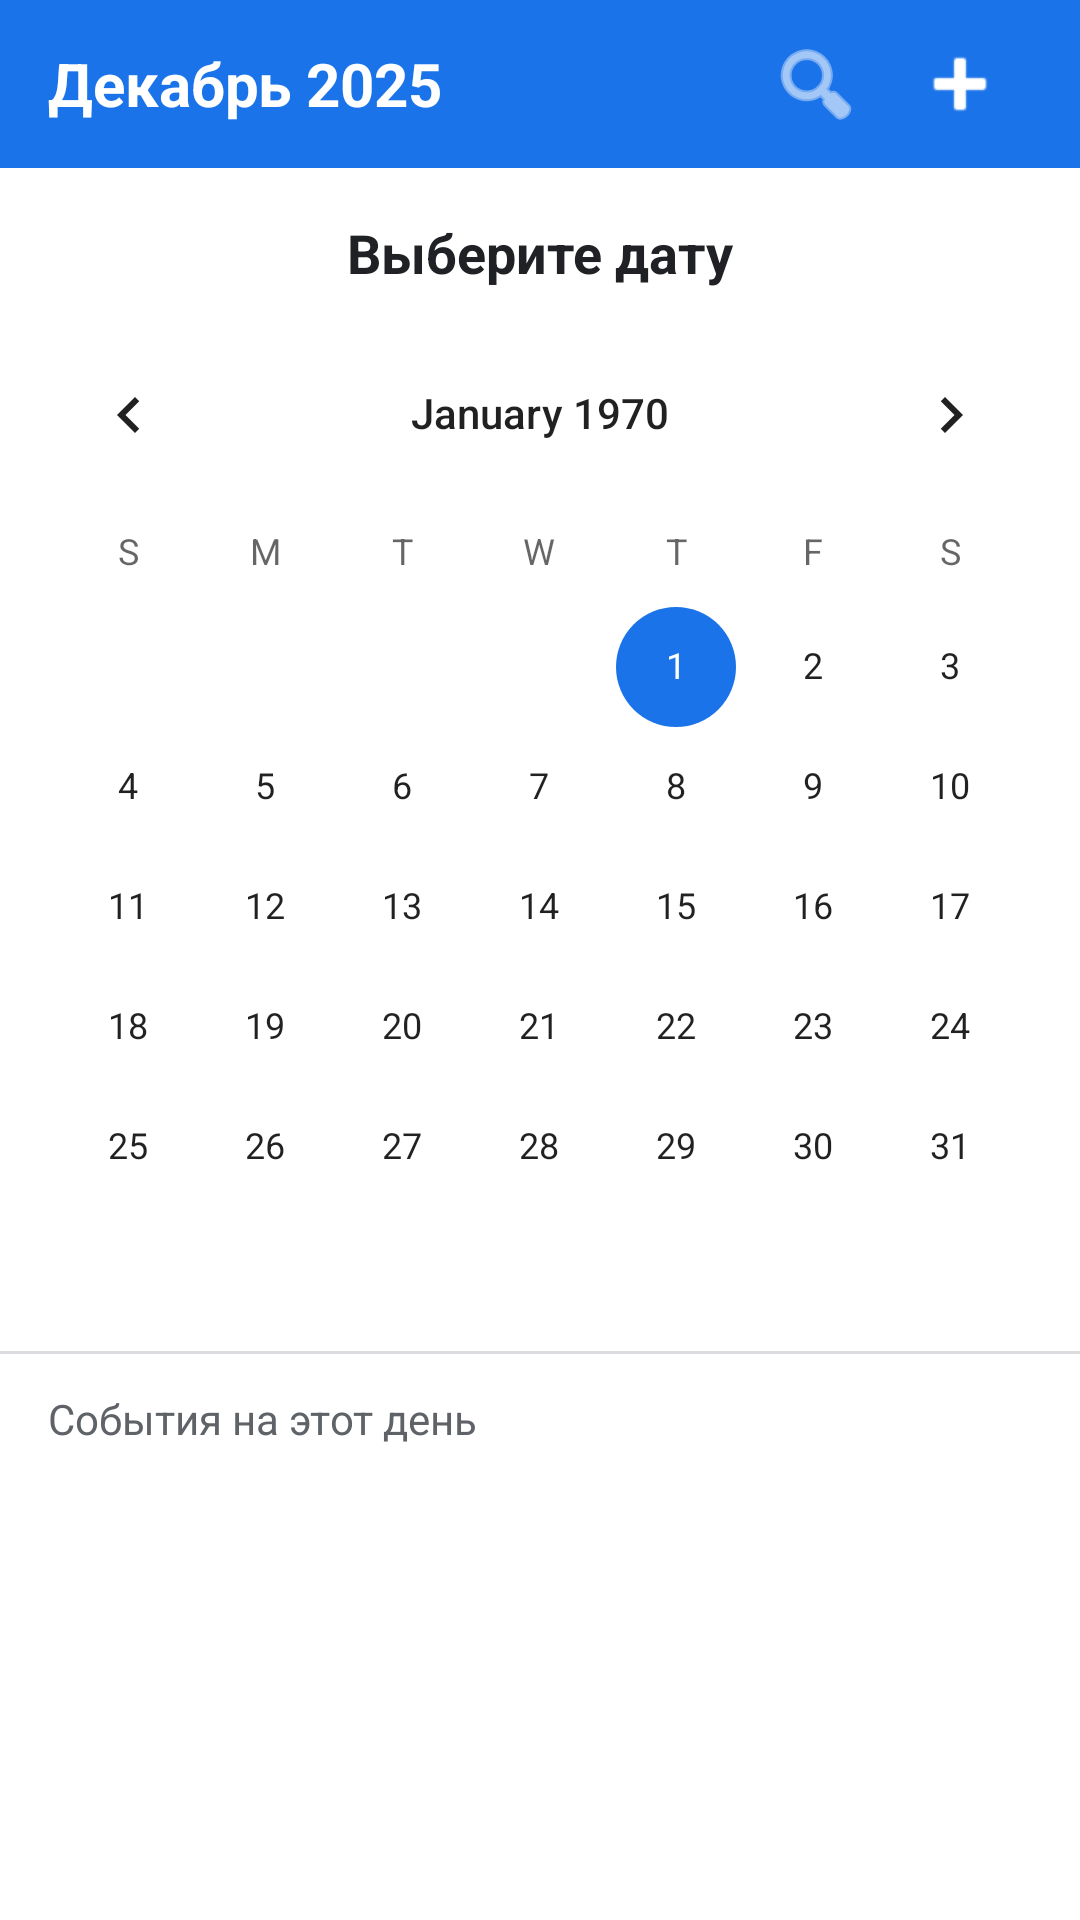

Icon bounding boxes for this 1080×1920 phone screenshot, format rect(x1, y1, x2, y2):
Добавить событие: rect(933, 57, 987, 111)
Поиск: rect(780, 49, 852, 120)
